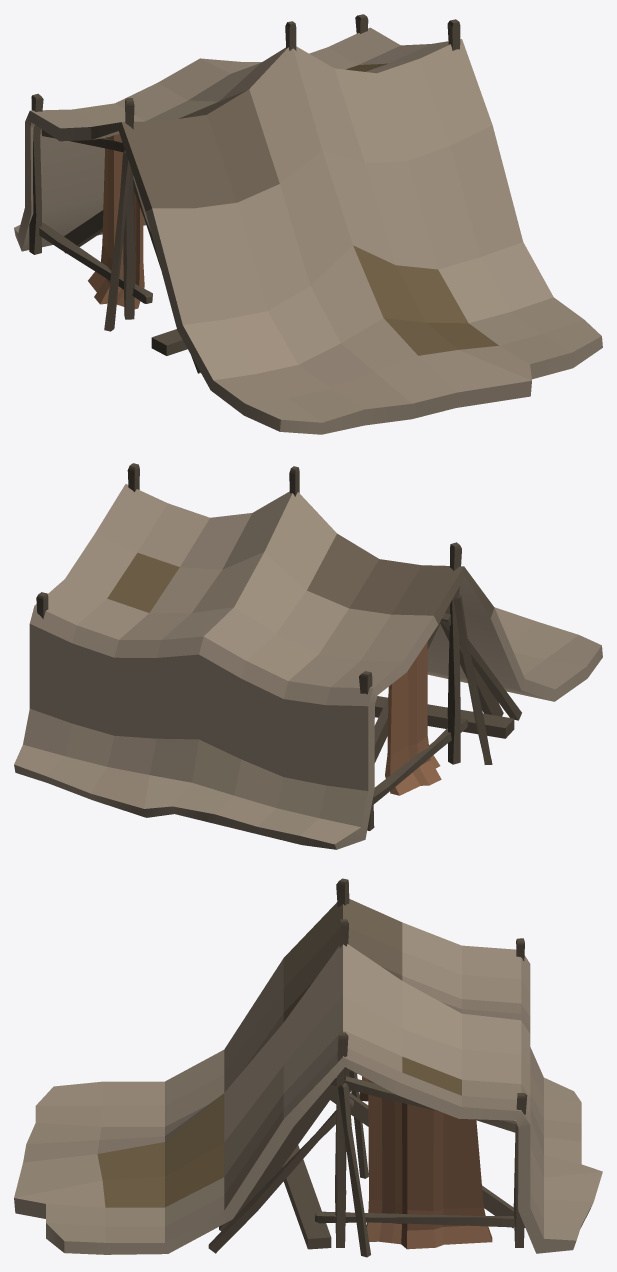
File: SM_Bld_Tent_05.glb
The picture shows the model from 3 angles, top to bottom: view 1: azimuth 30°, elevation 25°; view 2: azimuth 150°, elevation 25°; view 3: azimuth 270°, elevation 25°; orthographic projection. The views are drawn at different scales.
Parts seen in each view (by area): view 1: SM_Bld_Tent_05; view 2: SM_Bld_Tent_05; view 3: SM_Bld_Tent_05.
Part boxes in pixels (x1,y1,x2,y2): SM_Bld_Tent_05: (14,14,602,434); SM_Bld_Tent_05: (14,463,602,849); SM_Bld_Tent_05: (14,878,602,1257).
Bounding box in the file's own units: 0.0422 × 0.0284 × 0.0585.
Materials: 1 (1 with a texture image).
